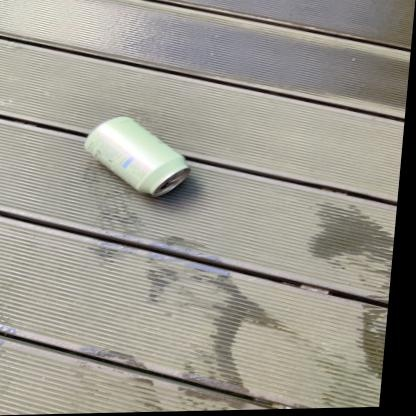trash: (85, 117, 190, 196)
